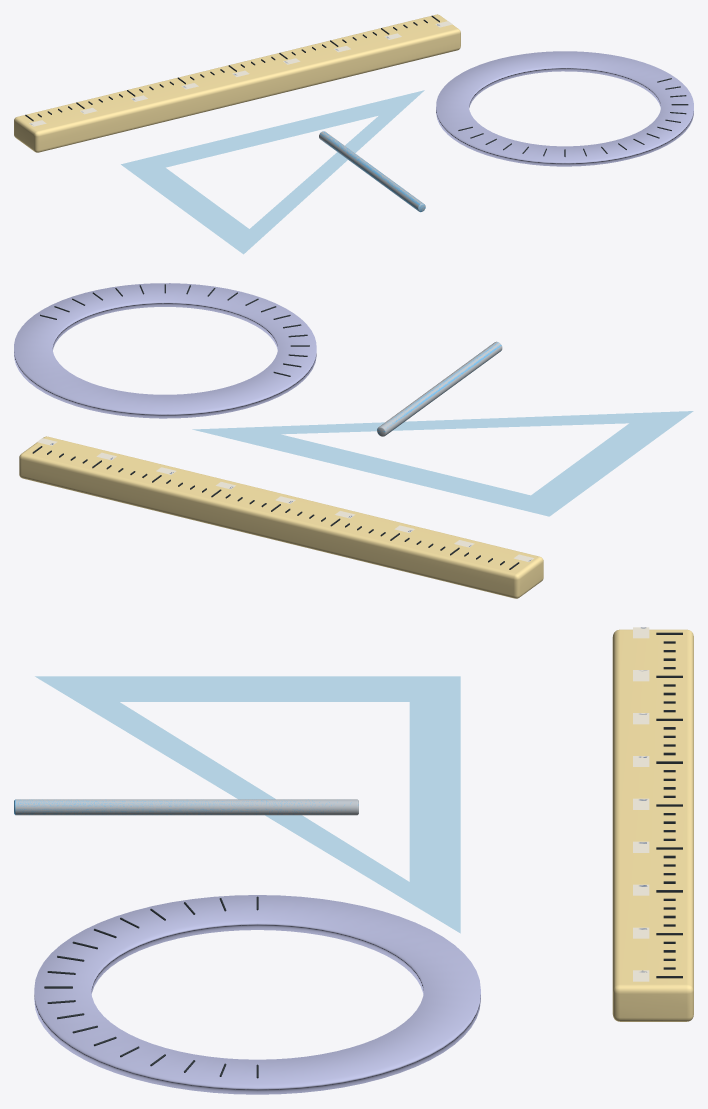
Rendered from geometry_teaching_set.glb.
The picture shows the model from 3 angles, top to bottom: view 1: azimuth 30°, elevation 25°; view 2: azimuth 150°, elevation 25°; view 3: azimuth 270°, elevation 25°; orthographic projection. The views are drawn at different scales.
Parts seen in each view (by area): view 1: Ruler, Protractor, Set_Square, Compass_Fixed_Leg, Compass_Moving_Leg; view 2: Ruler, Protractor, Set_Square, Compass_Fixed_Leg, Compass_Moving_Leg; view 3: Protractor, Ruler, Set_Square, Compass_Fixed_Leg, Compass_Moving_Leg.
Boxes of the visible parts, x1,y1,x2,y2 form: Ruler: (14,14,460,152); Protractor: (436,51,693,166); Set_Square: (121,90,424,254); Compass_Fixed_Leg: (319,131,425,211); Compass_Moving_Leg: (320,131,425,212); Ruler: (19,436,543,598); Protractor: (14,283,316,418); Set_Square: (192,411,693,516); Compass_Fixed_Leg: (377,341,502,436); Compass_Moving_Leg: (377,342,501,434); Protractor: (34,895,480,1094); Ruler: (612,629,693,1021); Set_Square: (35,676,460,933); Compass_Fixed_Leg: (15,799,358,815); Compass_Moving_Leg: (14,799,358,815).
Bounding box in the file's own units: 0.53 × 0.024 × 0.335.
15 materials, 9 textured.
